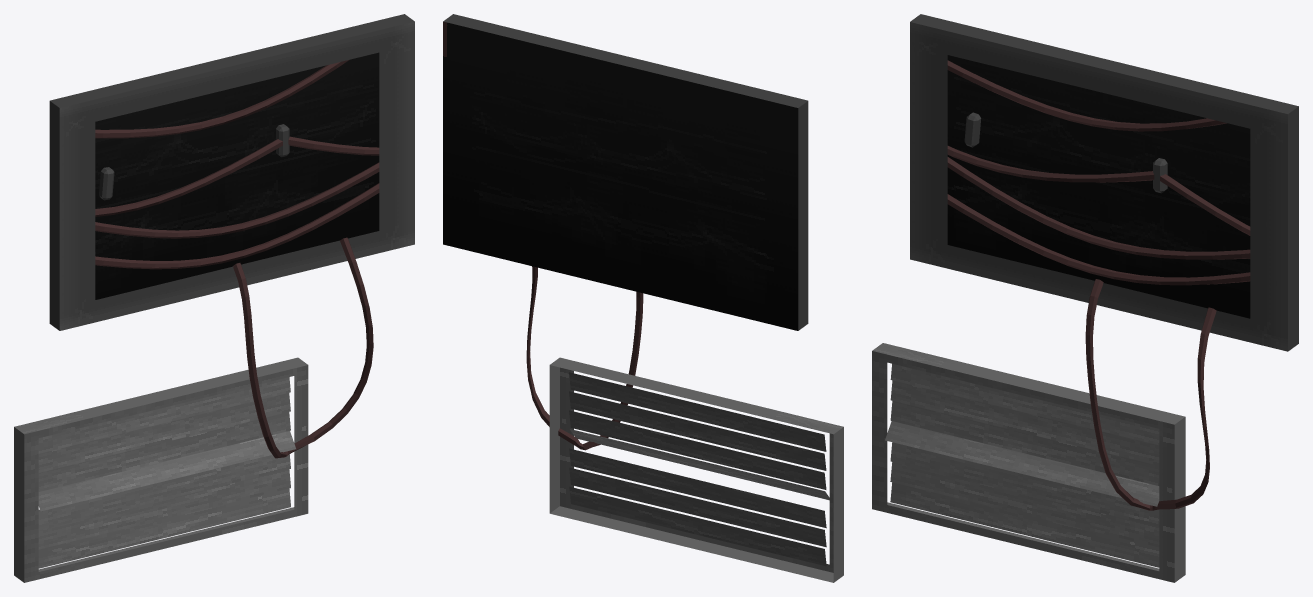
Rendered from vent_stuck-SBKIHQHY.gltf.
3 views of the same model, side by side, from view 1: azimuth 30°, elevation 25°; view 2: azimuth 150°, elevation 25°; view 3: azimuth 330°, elevation 25° (orthographic). The views are drawn at different scales.
Visible parts, largest first — view 1: frame (×2), blade (×7), cable (×5), dangler; view 2: frame (×2), blade (×7), dangler; view 3: frame (×2), blade (×7), cable (×5), dangler.
Boxes of the visible parts, bbox=[...] form: frame (×2): bbox=[14, 14, 414, 582]; blade (×7): bbox=[38, 377, 295, 568]; cable (×5): bbox=[95, 60, 379, 269]; dangler: bbox=[233, 237, 373, 458]; frame (×2): bbox=[443, 14, 843, 582]; blade (×7): bbox=[569, 372, 829, 566]; dangler: bbox=[526, 266, 643, 450]; frame (×2): bbox=[872, 14, 1298, 582]; blade (×7): bbox=[885, 363, 1159, 567]; cable (×5): bbox=[947, 60, 1250, 285]; dangler: bbox=[1085, 279, 1216, 510].
Bounding box in the file's own units: 0.6875 × 0.7839 × 0.0894.
2 materials, 2 textured.
